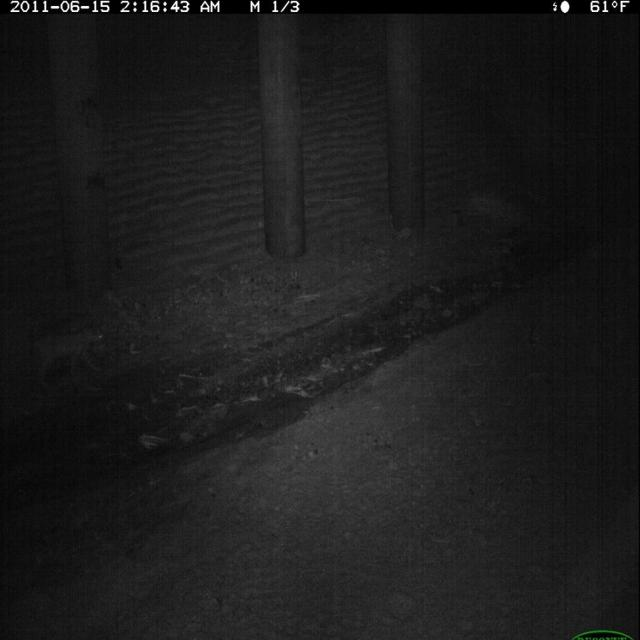bobcat: (31, 318, 112, 398)
